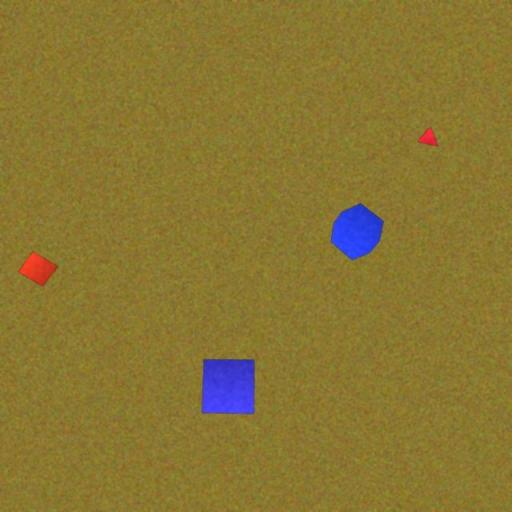BLUE_SQUARE: (201, 358, 255, 414)
RED_SQUARE: (18, 250, 58, 288)
